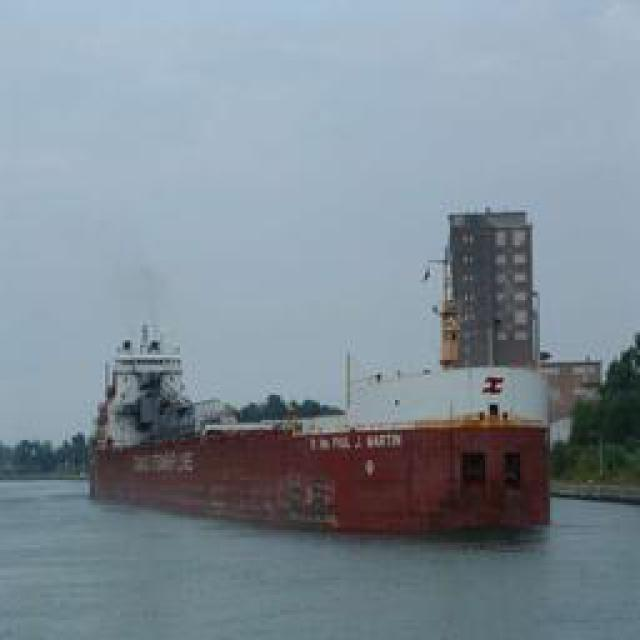Ship: (91, 307, 569, 537)
